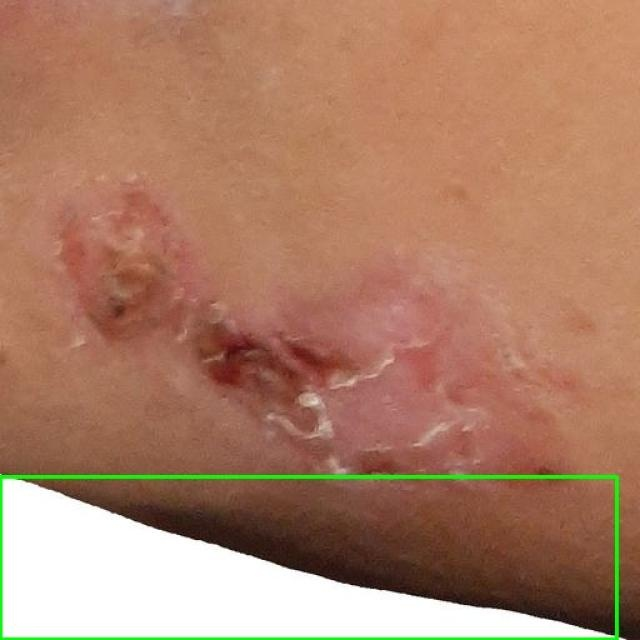Contact Dermatitis: (0, 476, 616, 639)
